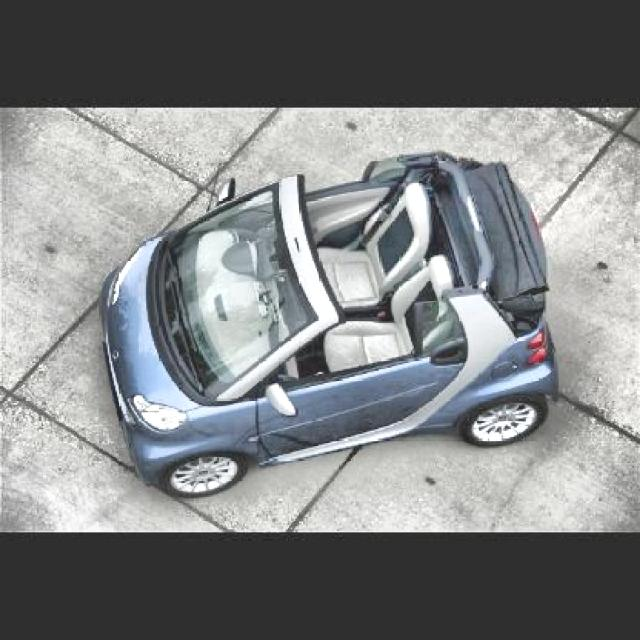blue: (96, 167, 556, 496)
